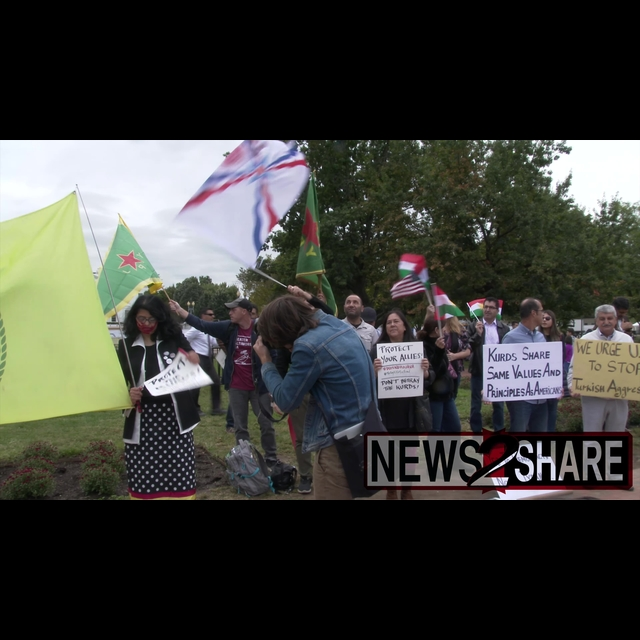YPJ: (114, 245, 149, 280)
